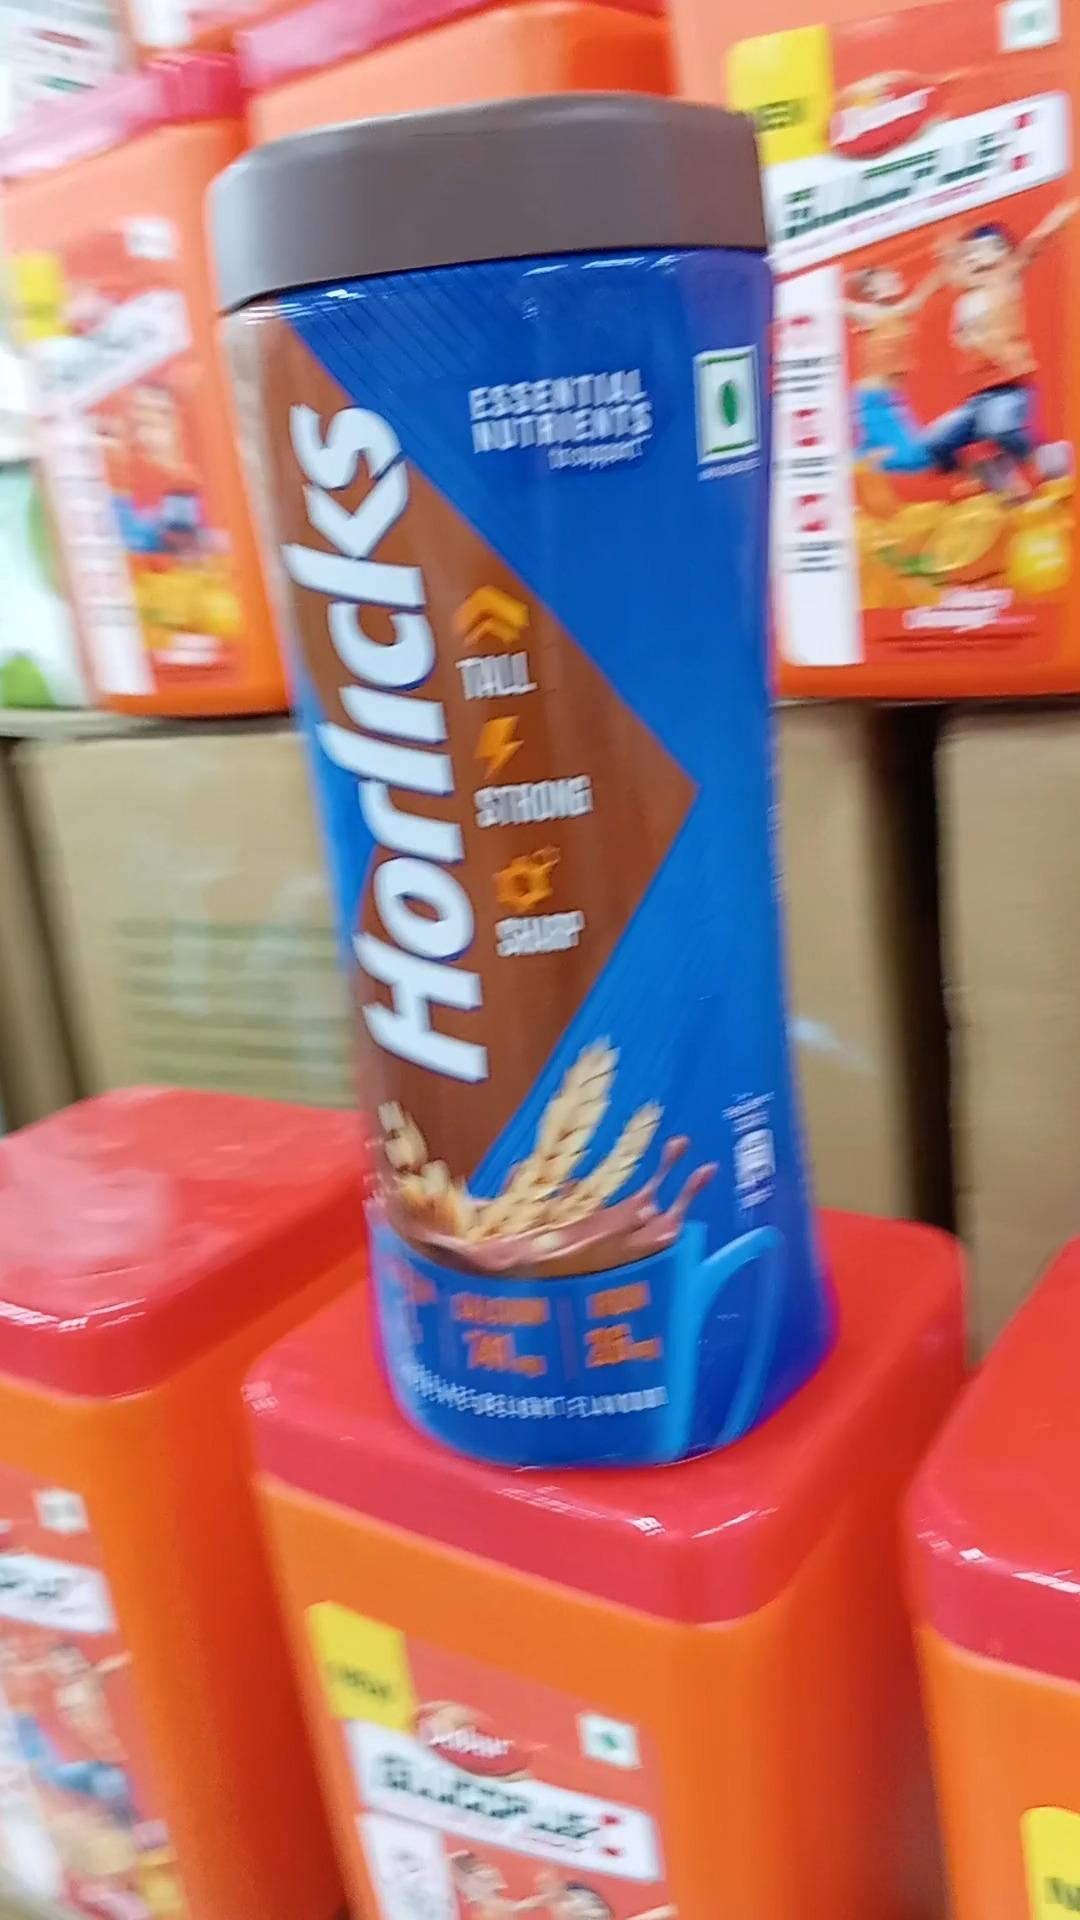HORLICK_CHOCOLATE_500_G_JAR: (277, 117, 804, 1461)
